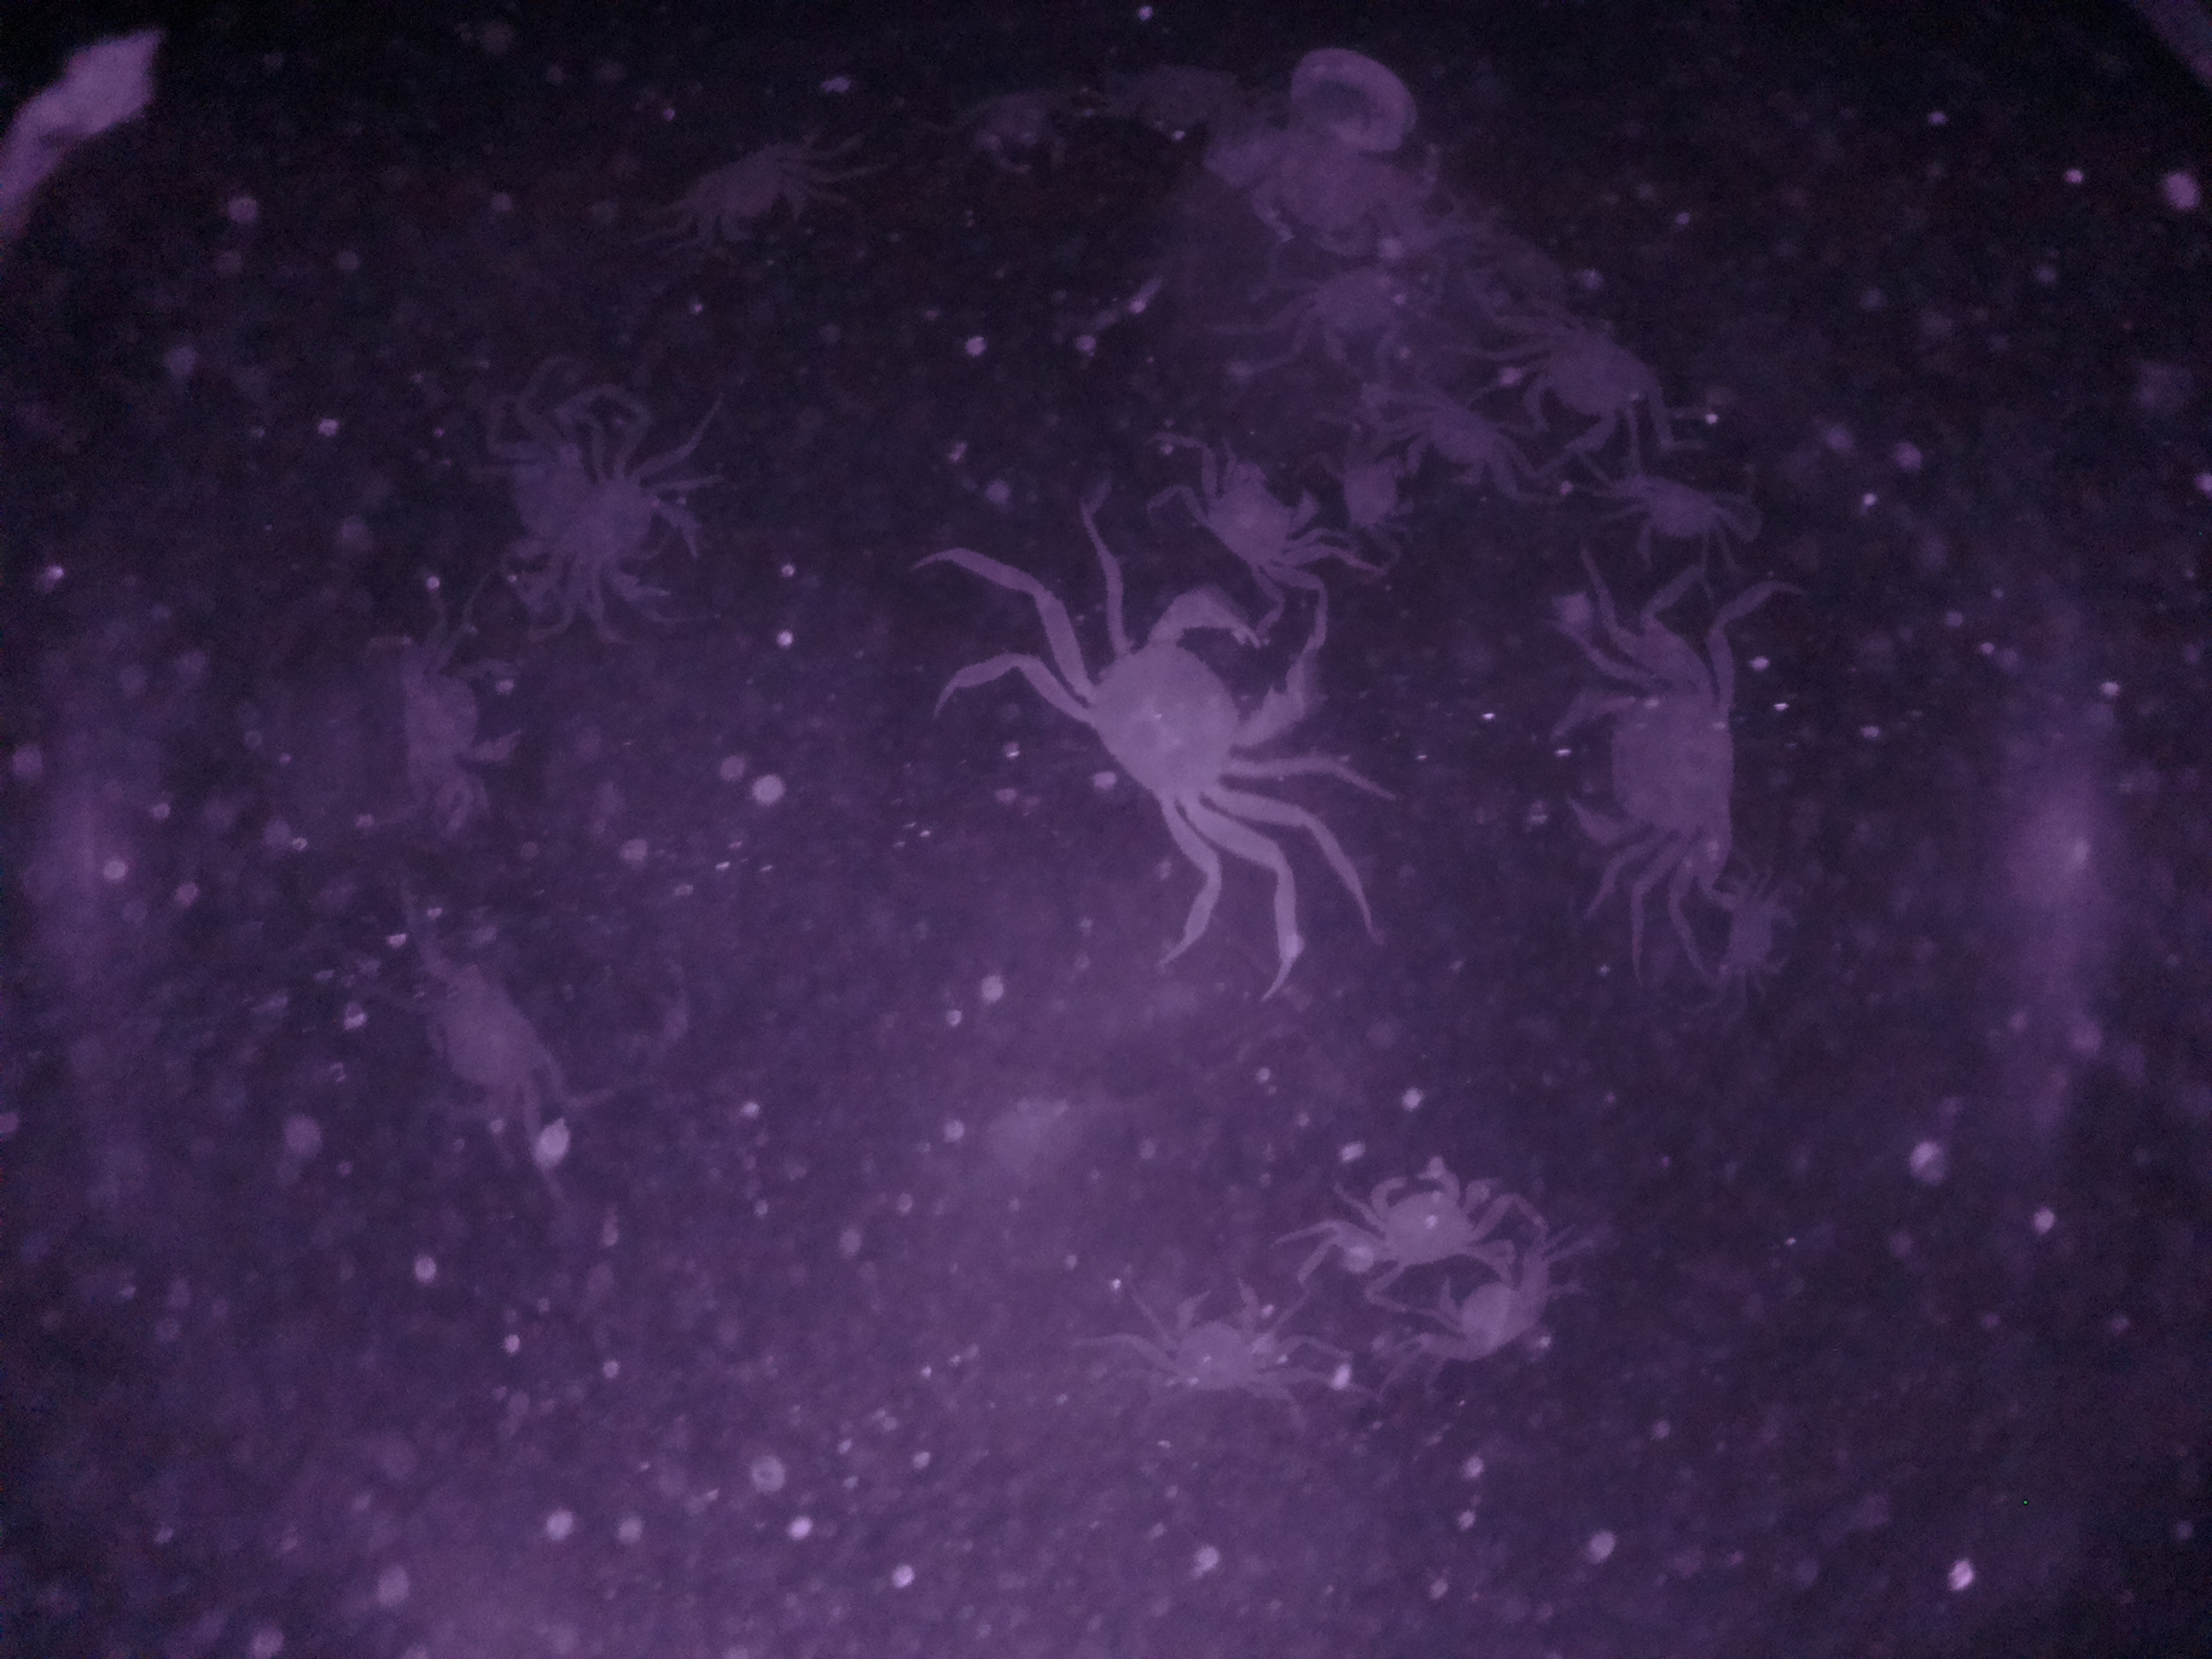Crab: (1029, 596, 1339, 859), (1536, 641, 1756, 892), (662, 118, 867, 274), (373, 638, 545, 802), (1318, 1150, 1515, 1291), (1165, 443, 1336, 591), (1514, 314, 1688, 458), (1130, 1267, 1284, 1419), (1435, 1249, 1571, 1384), (1379, 378, 1529, 498), (1595, 458, 1754, 572)
